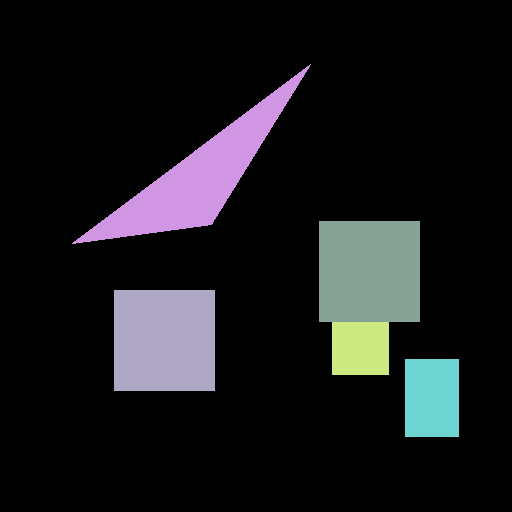circle: (319, 221, 419, 374)
rectangle: (405, 359, 458, 436)
square: (114, 290, 214, 390)
triangle: (72, 64, 310, 243)
